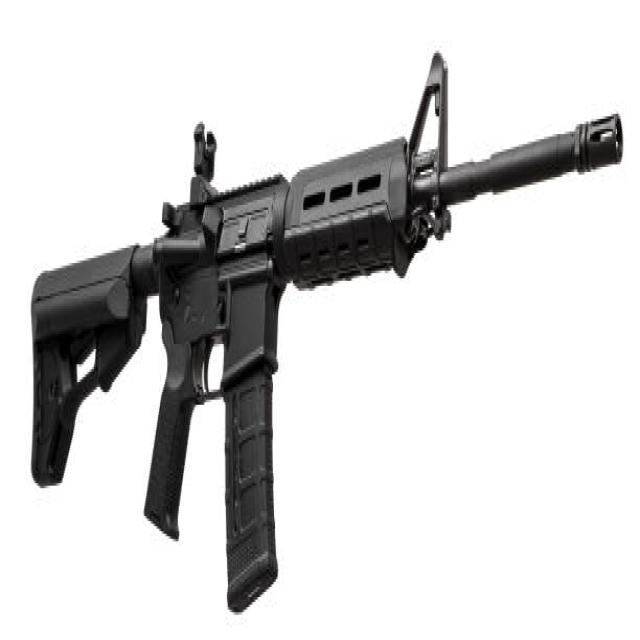rifle: (23, 28, 627, 640)
